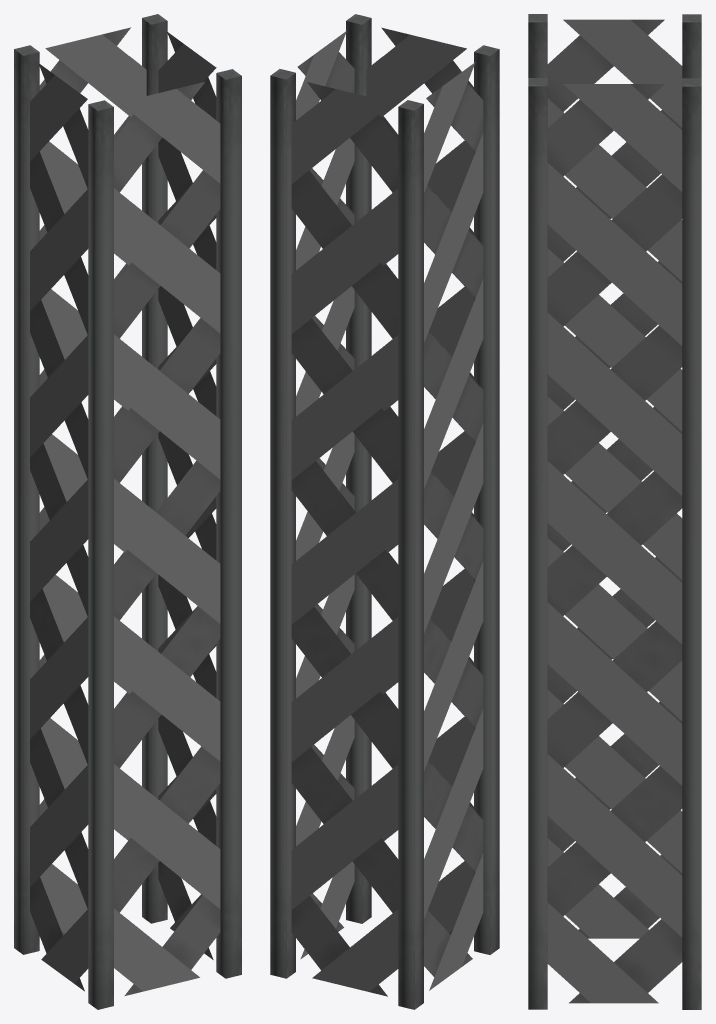
File: mdlCLBeam.fbx
3 views of the same model, side by side, from view 1: azimuth 30°, elevation 25°; view 2: azimuth 150°, elevation 25°; view 3: azimuth 270°, elevation 25° (orthographic). The views are drawn at different scales.
Parts seen in each view (by area): view 1: Metal Beam; view 2: Metal Beam; view 3: Metal Beam.
Part boxes in pixels (box(x1,y1,x2,y2)): Metal Beam: box(14, 14, 241, 1009); Metal Beam: box(270, 14, 499, 1009); Metal Beam: box(528, 14, 701, 1009).
Size of the model in its own units: 469 by 2781 by 473.
